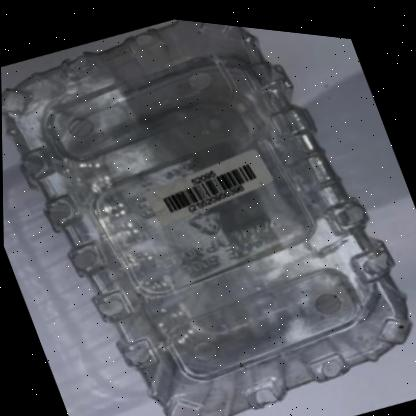Plastic: (1, 15, 410, 416)
